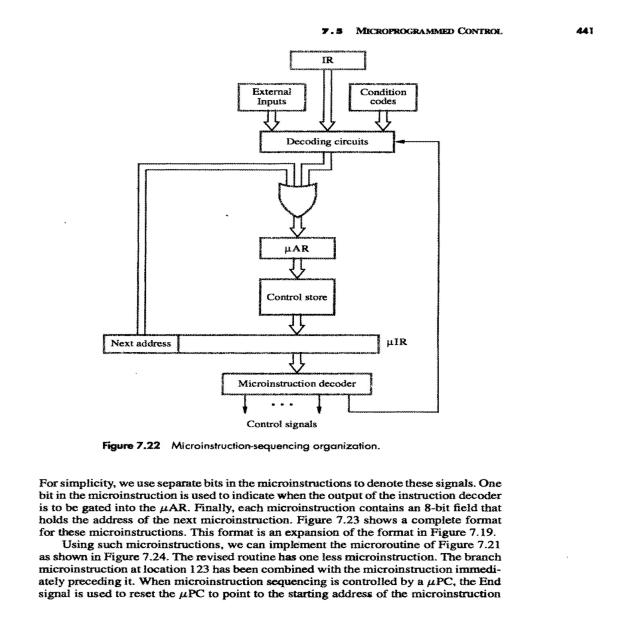diagram: (51, 38, 532, 460), (639, 218, 640, 248)
